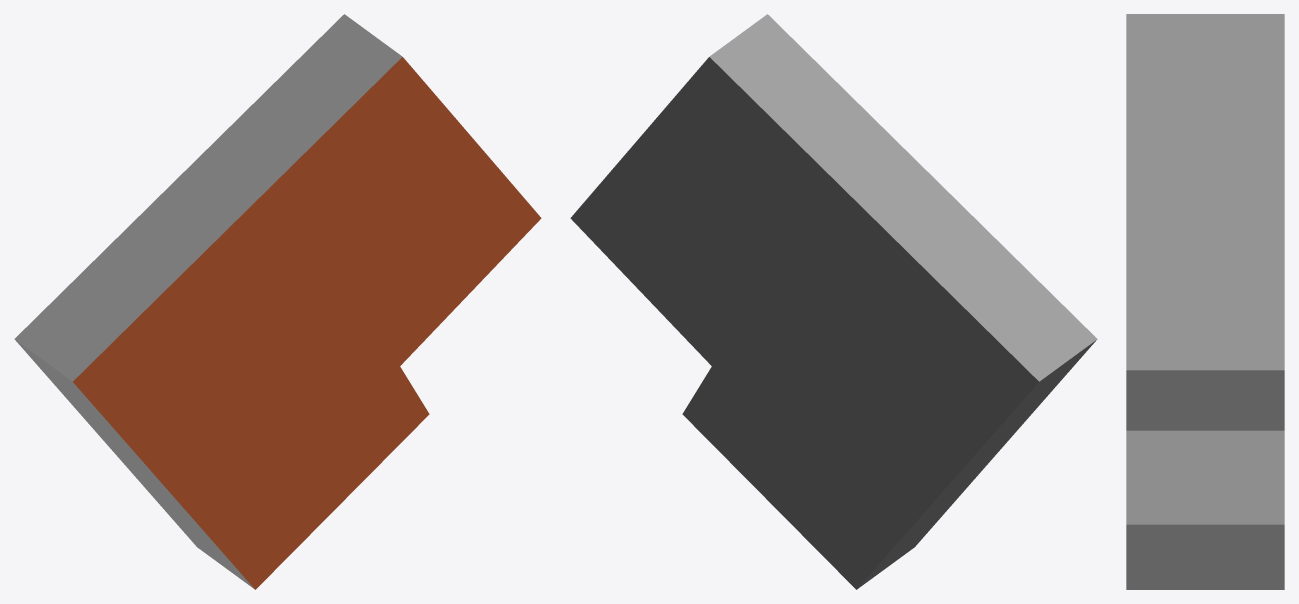
File: construction_3179_actual_A_Casa_h5m.obj
The picture shows the model from 3 angles, left to right: view 1: azimuth 30°, elevation 25°; view 2: azimuth 150°, elevation 25°; view 3: azimuth 270°, elevation 25°; orthographic projection. The views are drawn at different scales.
Parts seen in each view (by area): view 1: construction_3179_actual_A_Casa; view 2: construction_3179_actual_A_Casa; view 3: construction_3179_actual_A_Casa.
Part boxes in pixels (box(x1,y1,x2,y2)): construction_3179_actual_A_Casa: box(14, 14, 541, 589); construction_3179_actual_A_Casa: box(570, 14, 1097, 589); construction_3179_actual_A_Casa: box(1126, 14, 1284, 589).
Bounding box in the file's own units: 23.19 × 23.51 × 5.
